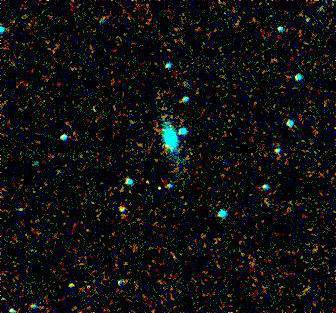star: (143, 172, 173, 202)
